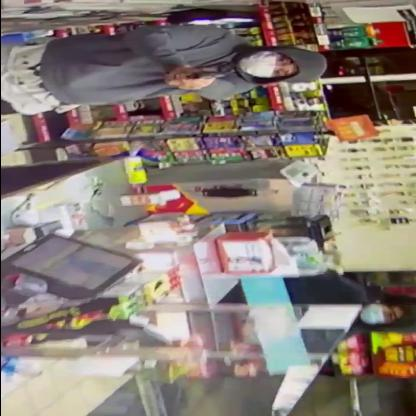Pistol: (164, 64, 230, 88)
